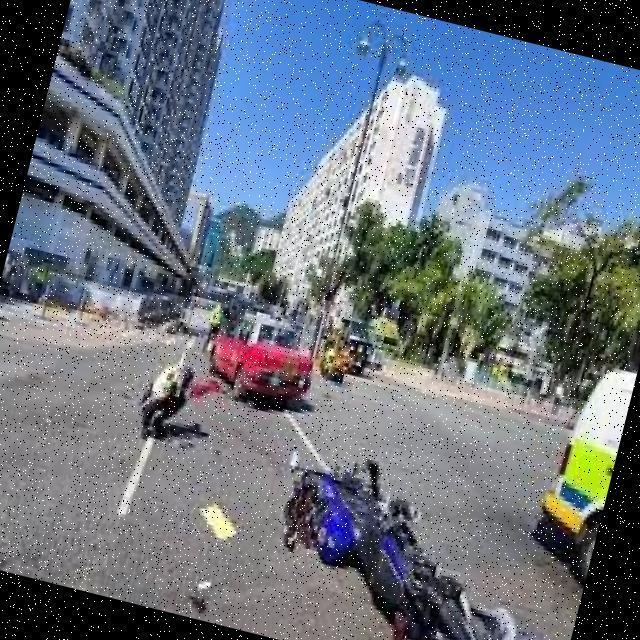accident: (240, 408, 541, 640)
